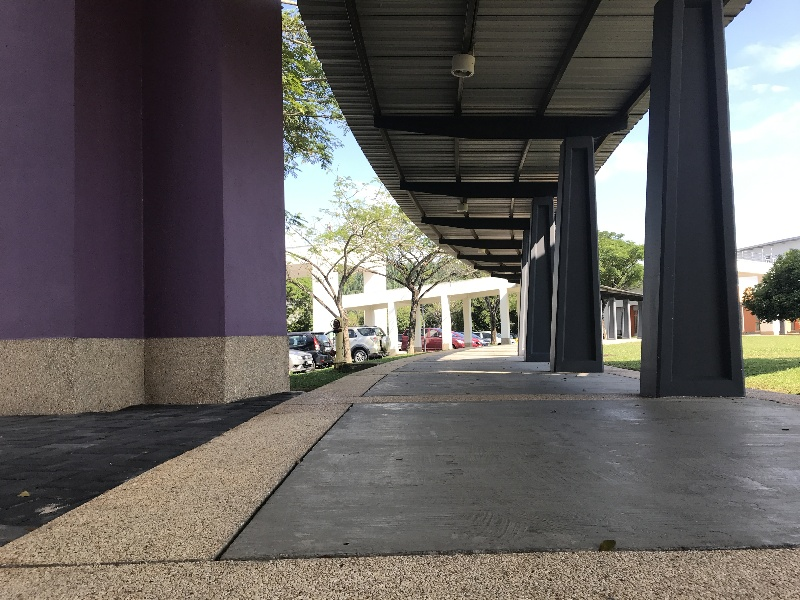Block D Pillar 7: (4, 3, 794, 512)
pillar: (2, 1, 301, 407), (637, 6, 749, 408), (549, 128, 608, 383), (514, 188, 555, 368)
